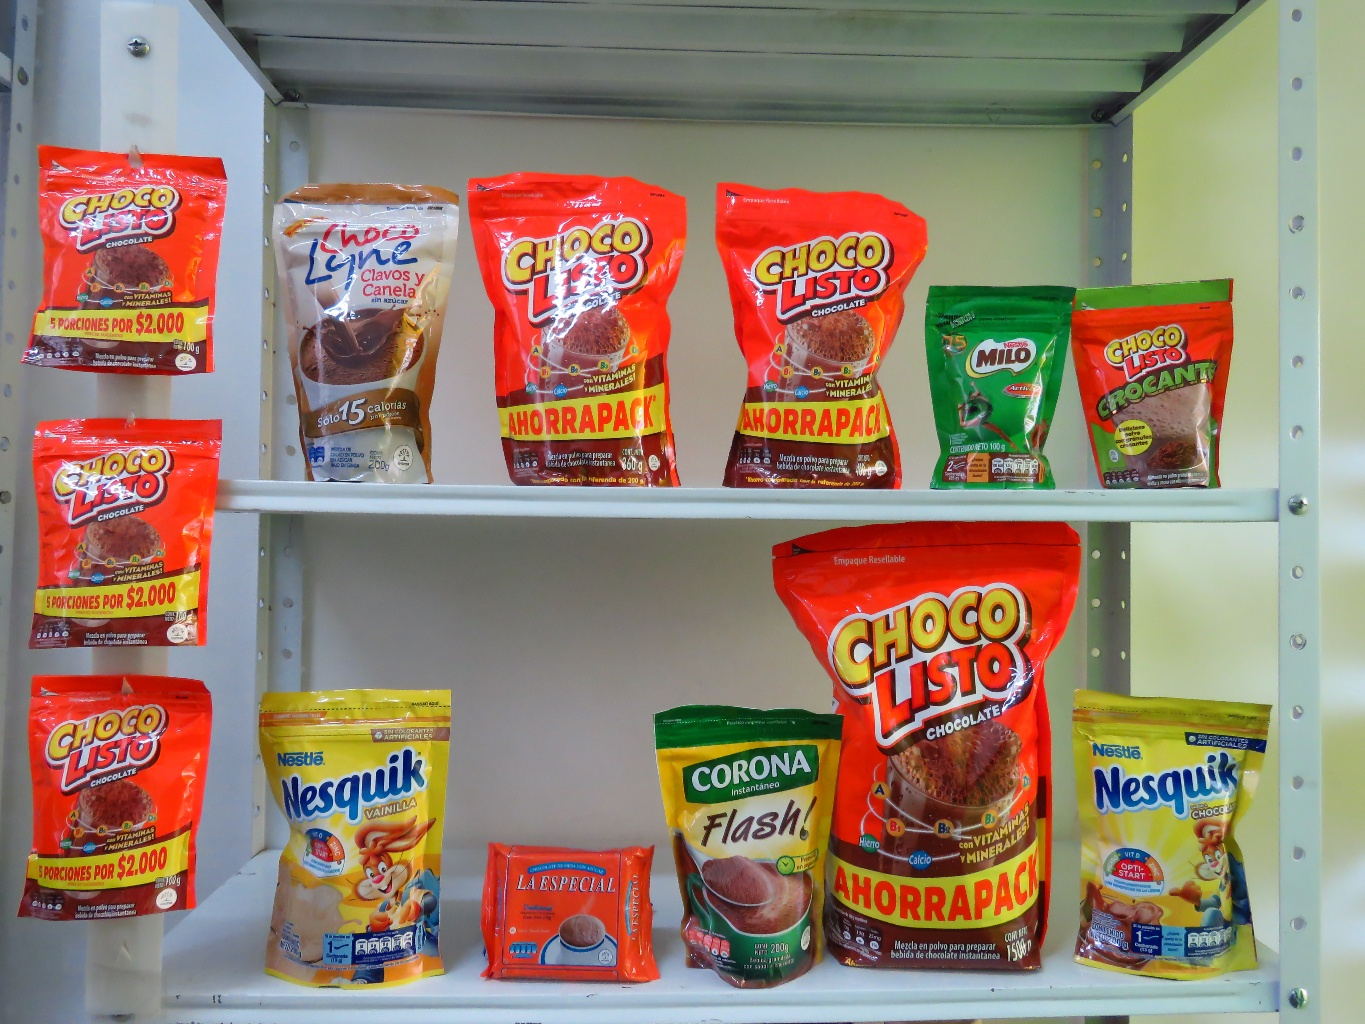COL0170102DYP10000: (1077, 278, 1240, 482)
COL0170103DYP1,500: (782, 518, 1083, 972)
COL0170103DYP10000: (16, 666, 226, 926)
COL0170103DYP36000: (464, 169, 696, 482)
COL0170103DYP40000: (712, 172, 913, 490)
COL0170203DYP10000: (923, 280, 1080, 492)
COL0170303DYP20000: (1060, 682, 1278, 978)
COL0170306DYP20000: (264, 678, 454, 991)
